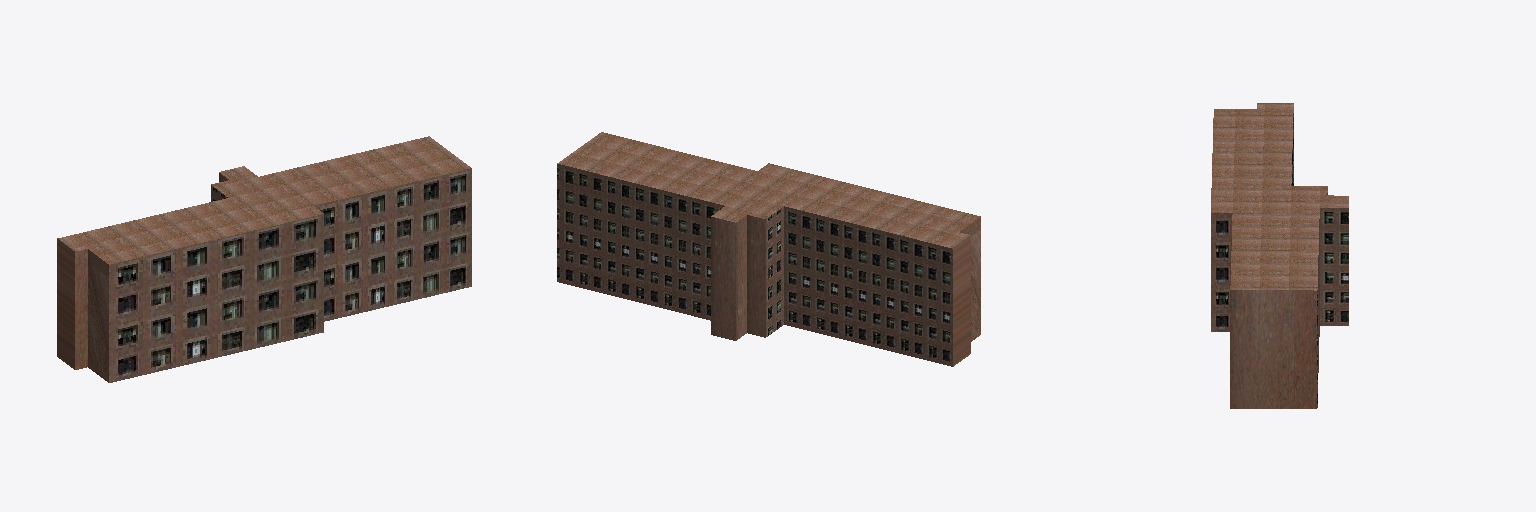
3 views of the same model, side by side, from view 1: azimuth 30°, elevation 25°; view 2: azimuth 150°, elevation 25°; view 3: azimuth 270°, elevation 25° (orthographic).
Parts seen in each view (by area): view 1: VMtl1700, VMtl1702; view 2: VMtl1700, VMtl1702; view 3: VMtl1702, VMtl1700.
Boxes of the visible parts, x1=… form: VMtl1700: x1=109, y1=168, x2=471, y2=382; VMtl1702: x1=57, y1=136, x2=470, y2=382; VMtl1700: x1=557, y1=164, x2=952, y2=366; VMtl1702: x1=557, y1=132, x2=980, y2=366; VMtl1702: x1=1211, y1=103, x2=1348, y2=408; VMtl1700: x1=1211, y1=113, x2=1348, y2=407.
Bounding box in the file's own units: 73.67 × 21.7 × 23.
Materials: 3 (2 with a texture image).